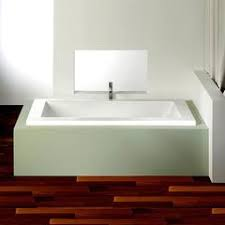bathub: (13, 87, 210, 175)
